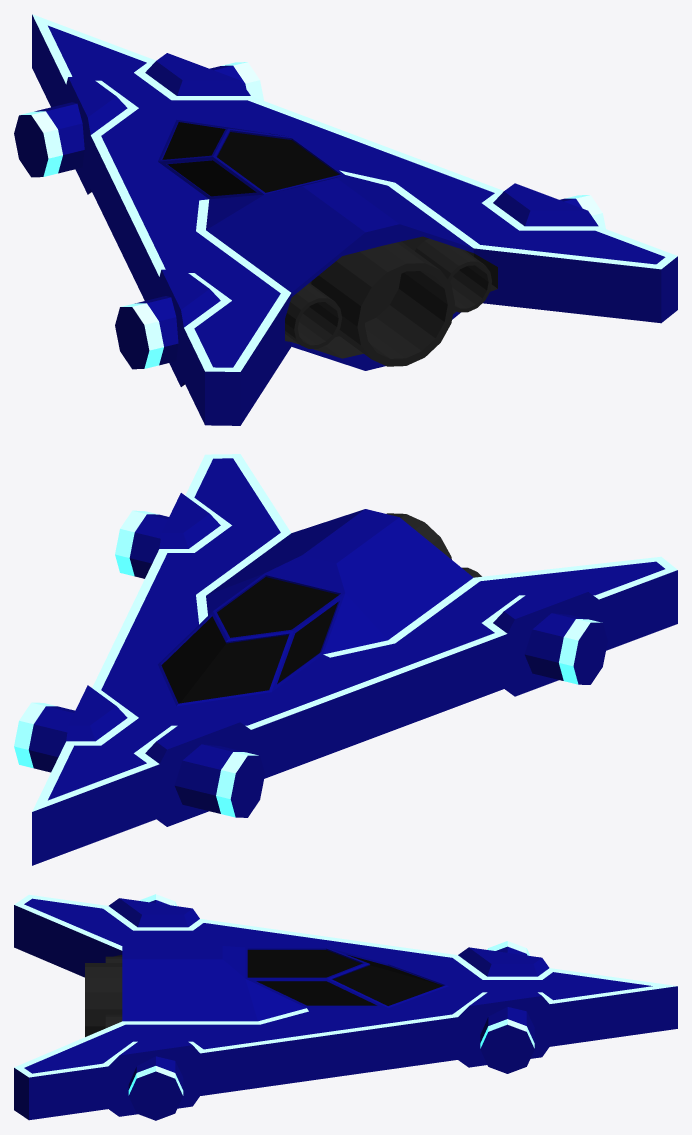
File: spaceship.fbx
3 views of the same model, one above another, from view 1: azimuth 30°, elevation 25°; view 2: azimuth 150°, elevation 25°; view 3: azimuth 270°, elevation 25° (orthographic). The views are drawn at different scales.
Parts seen in each view (by area): view 1: spaceship; view 2: spaceship; view 3: spaceship.
Part boxes in pixels (left/top/right/bottom): spaceship: left=14, top=14, right=677, bottom=425; spaceship: left=14, top=454, right=677, bottom=865; spaceship: left=14, top=894, right=677, bottom=1120.
Bounding box in the file's own units: 1.84 × 0.5144 × 2.82.
